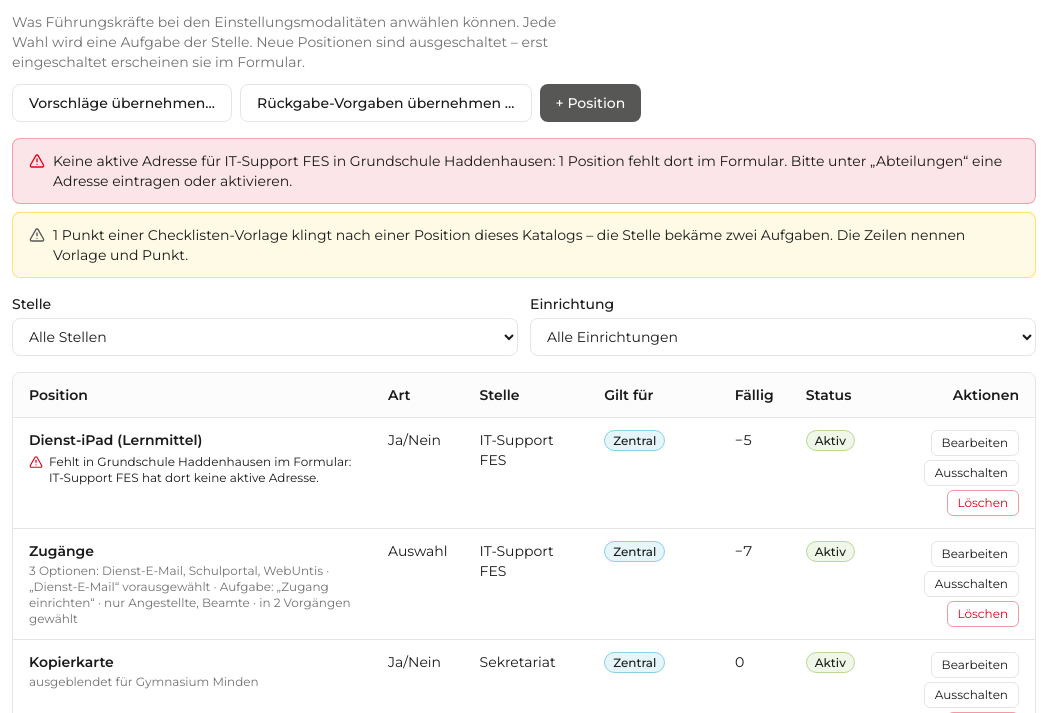
Test: Ein- und Ausschalten › zeigt den Fehlertext des Servers
Click the button "Ausschalten" below "−5" at (971, 473), box [924,460,1019,486]
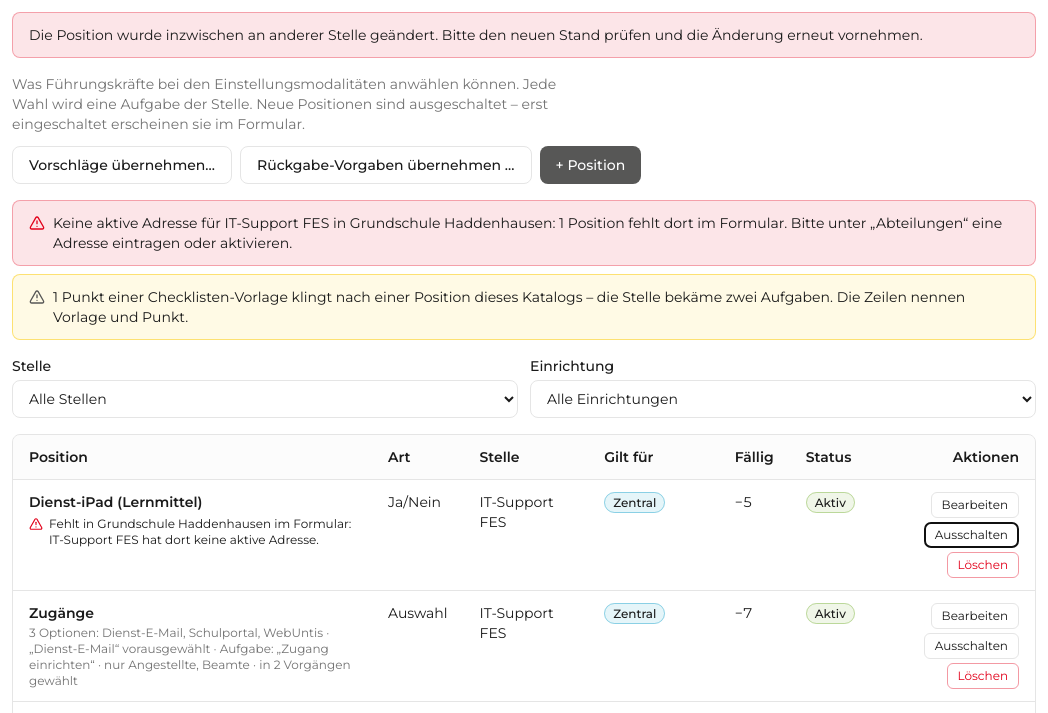
Now the message shows "Die Position wurde inzwischen an anderer Stelle geändert. Bitte den neuen Stand prüfen und die Änderung erneut vornehmen.", box [29,26,923,44]
